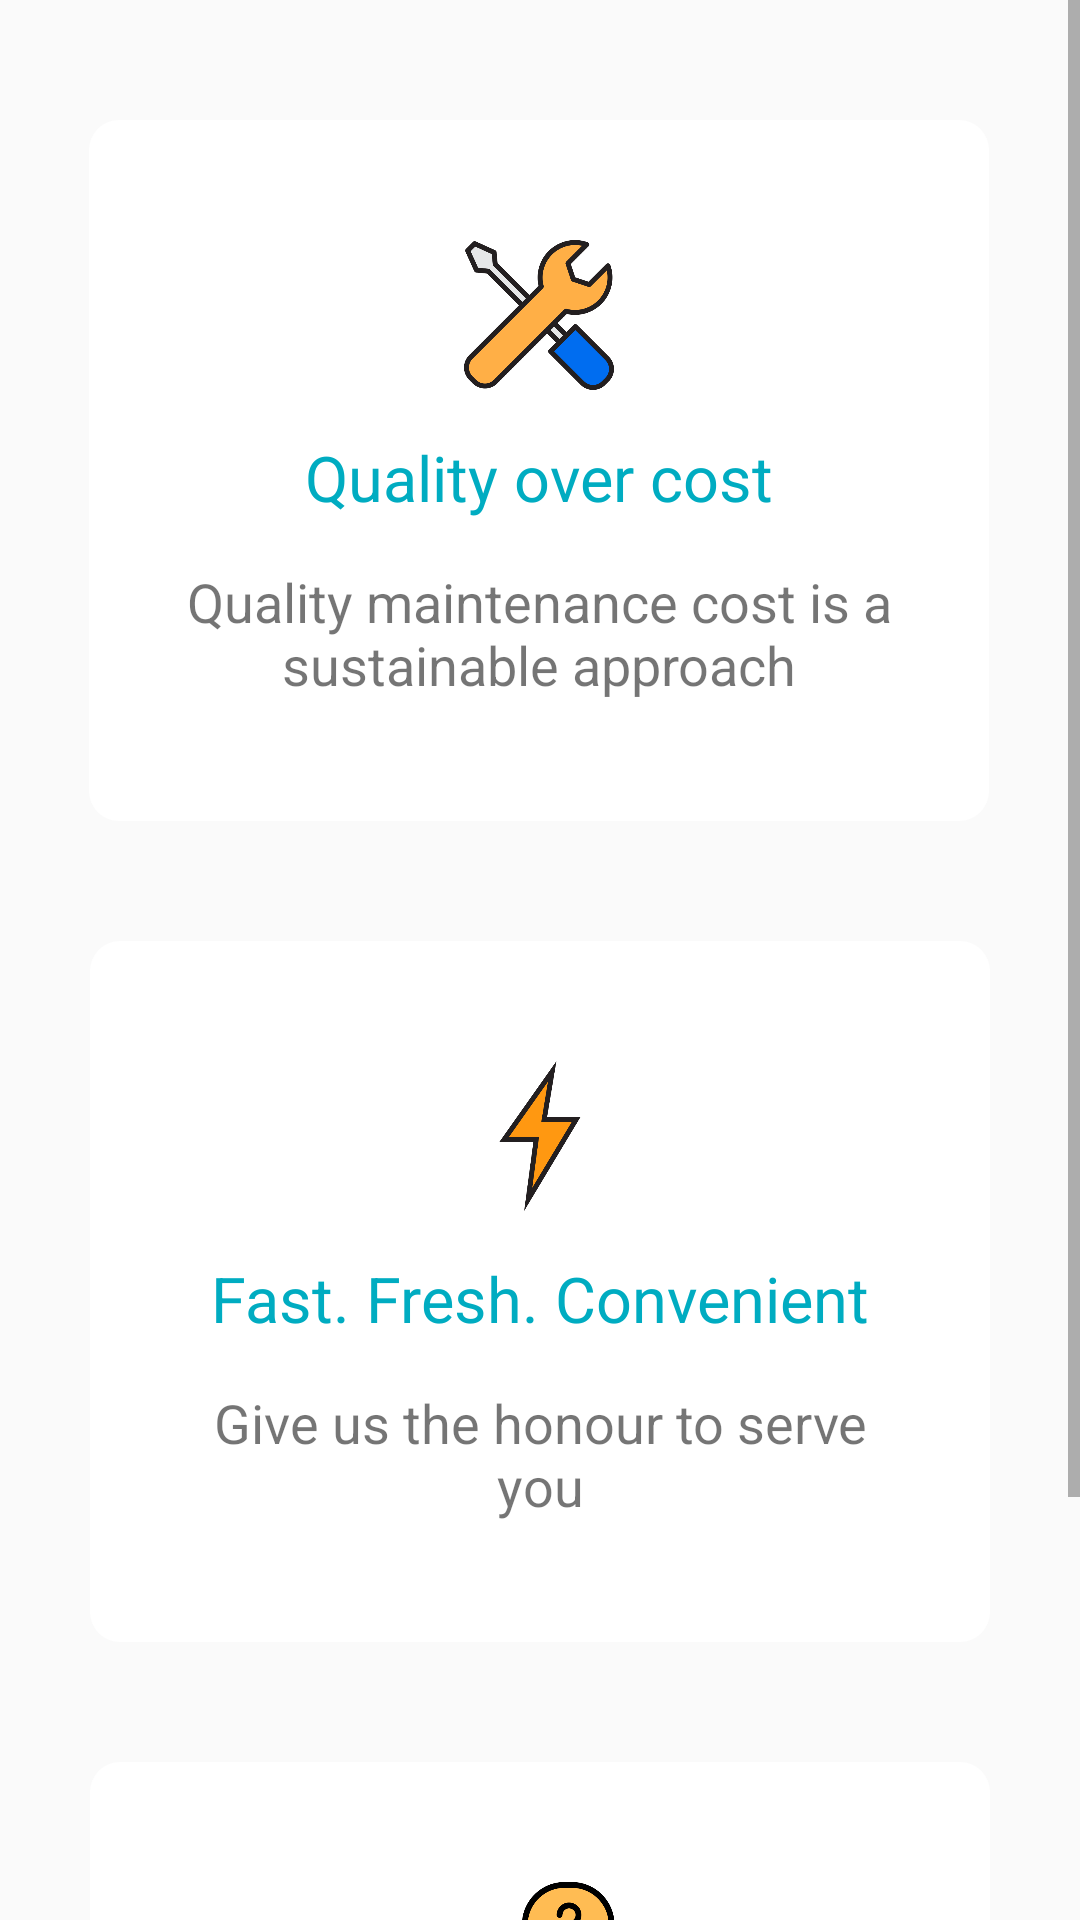

Icon bounding boxes for this 1080 × 1920 phone screenshot, format (x1, y1, x2, y2):
bolt: (499, 1061, 580, 1211)
technical support: (464, 240, 614, 390)
